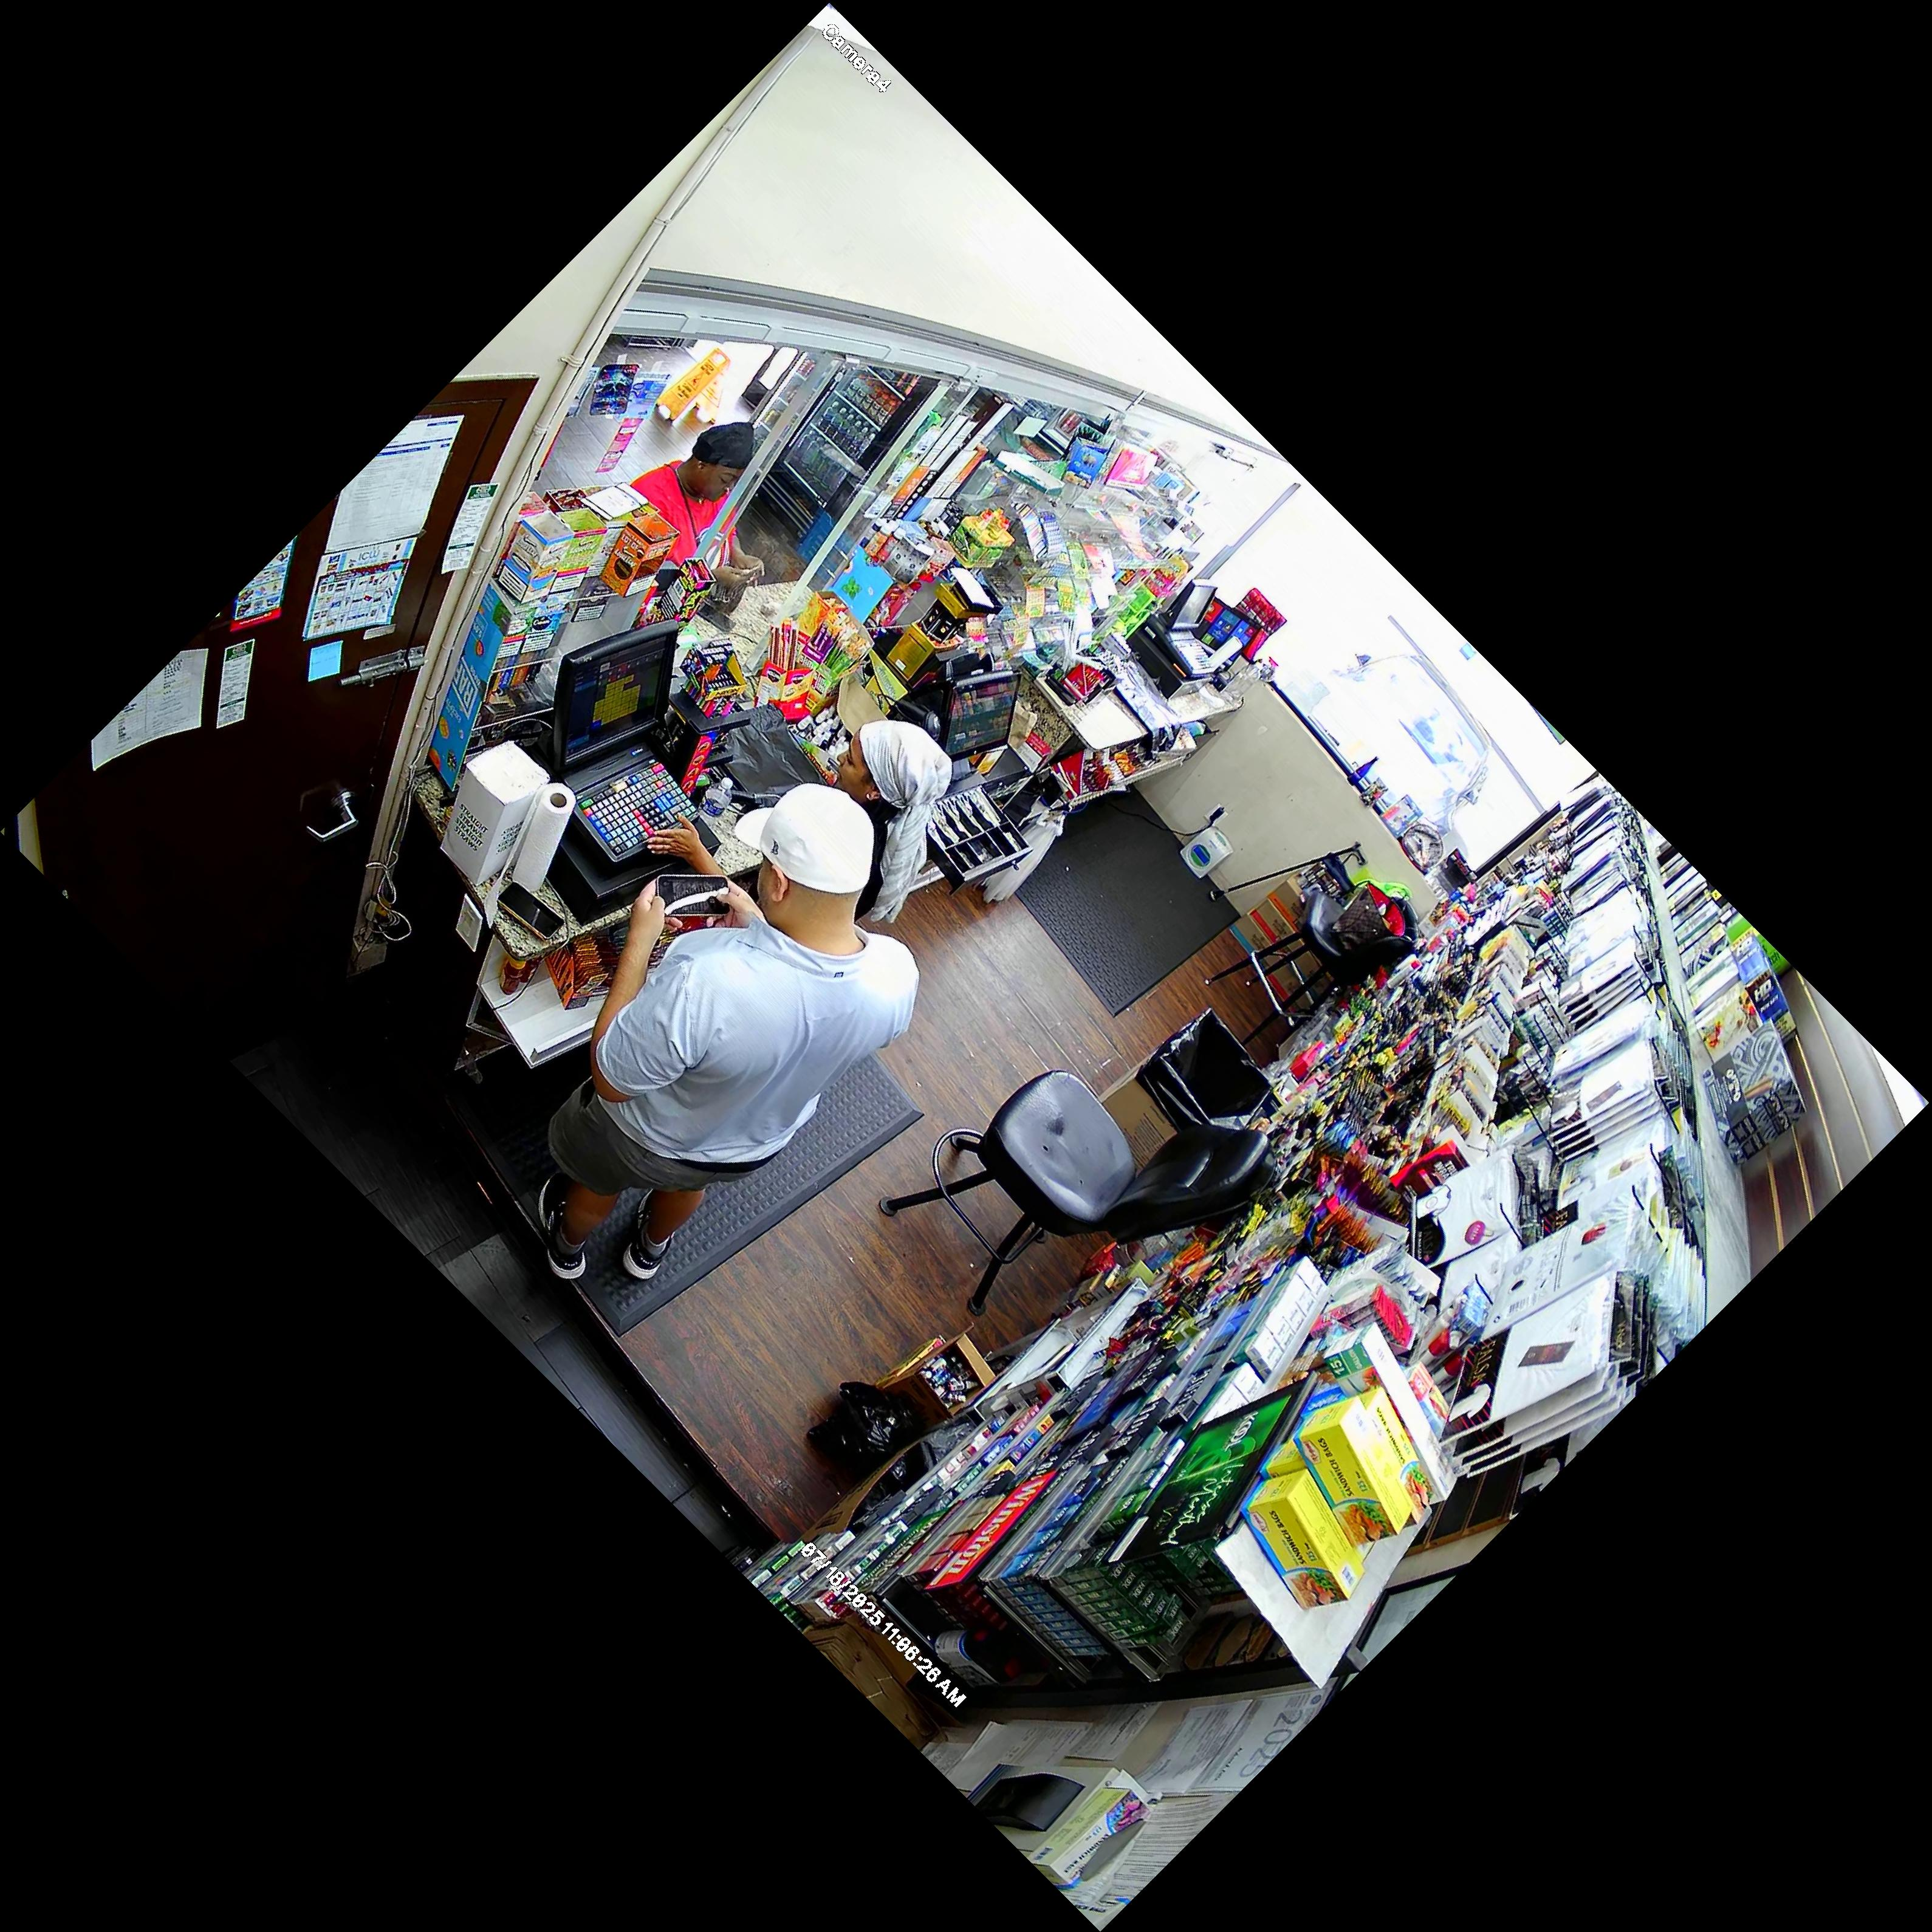phone: (640, 867, 747, 932)
